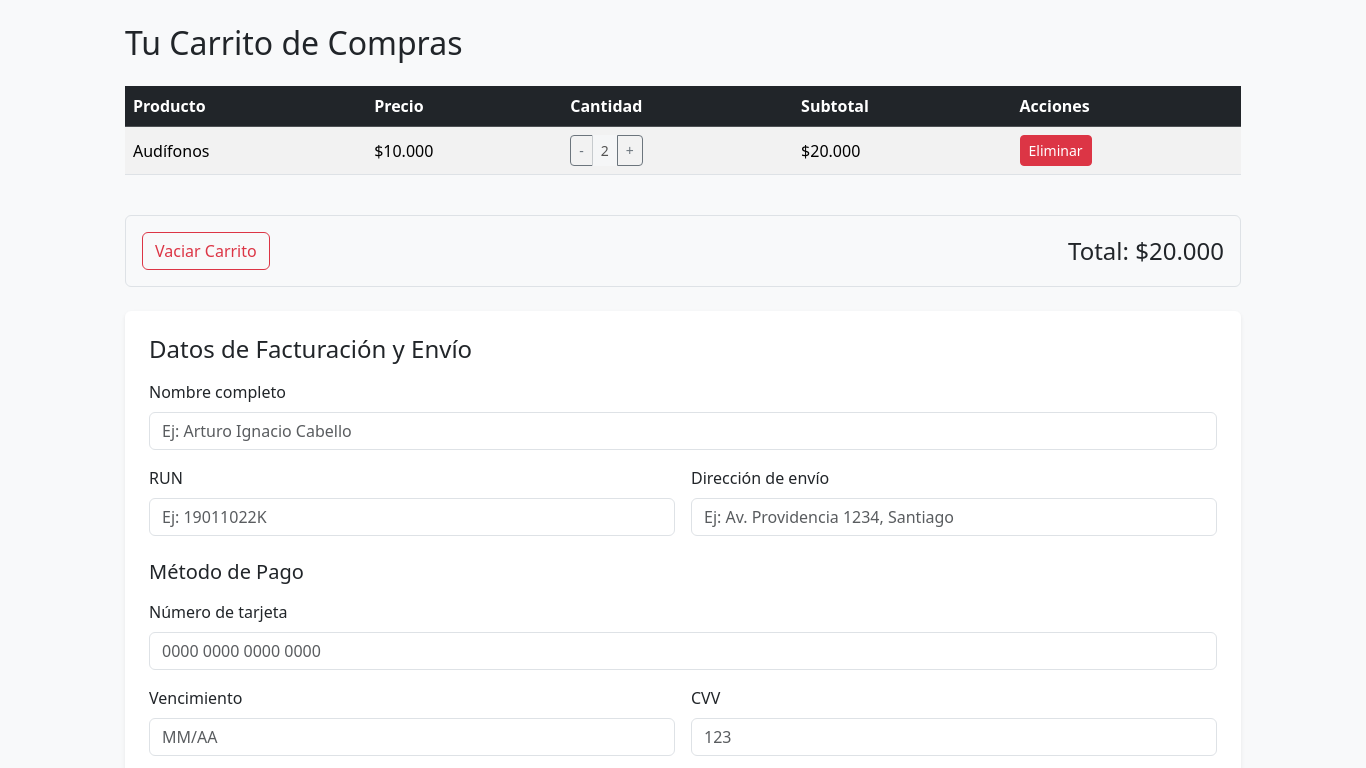
Scenario: Checkout del carrito › aplica formato automático a la tarjeta y al vencimiento
This screenshot has width=1366, height=768.
Type "1234567812345678" into the field with test id "pago-tarjeta".
click(683, 651); type("1234567812345678")  # box [149,632,1217,670]
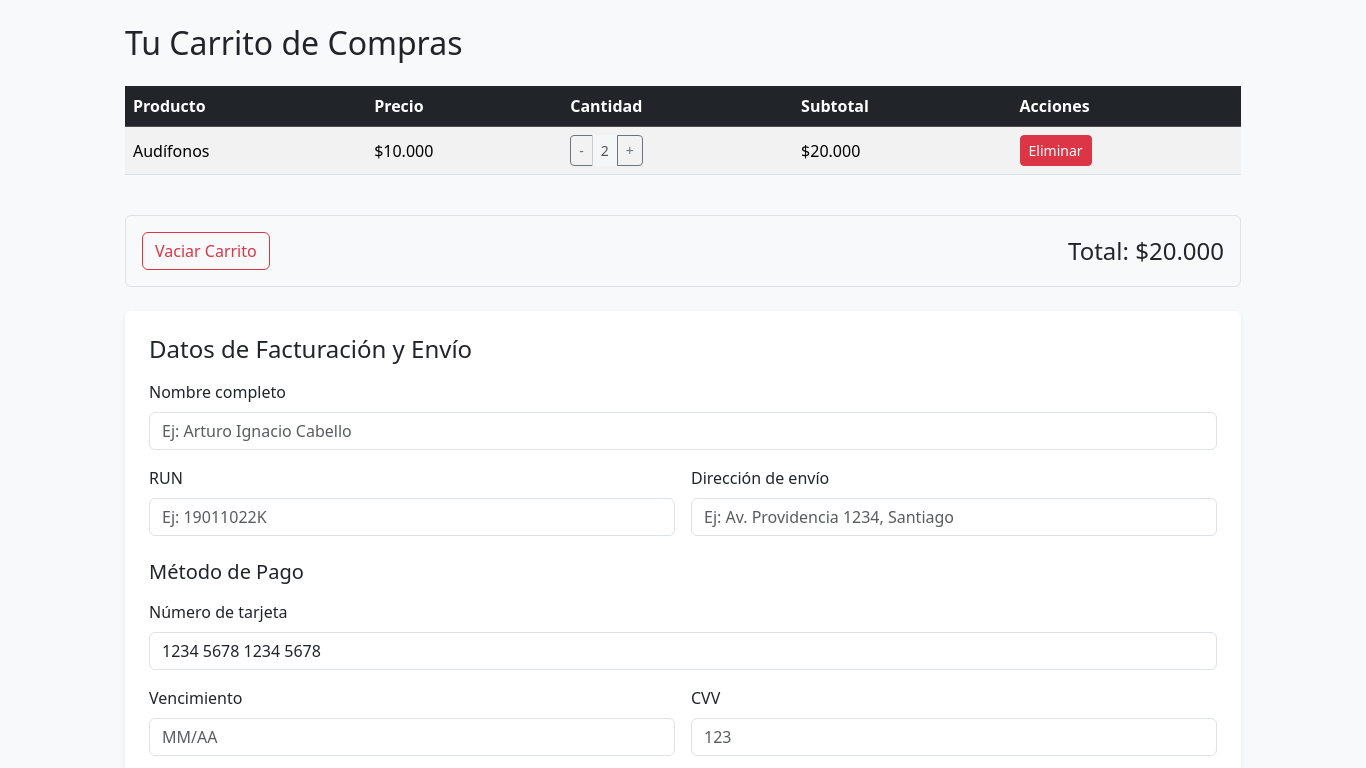
Type "1230" into the field with test id "pago-vencimiento".
click(412, 737); type("1230")  # box [149,718,675,756]
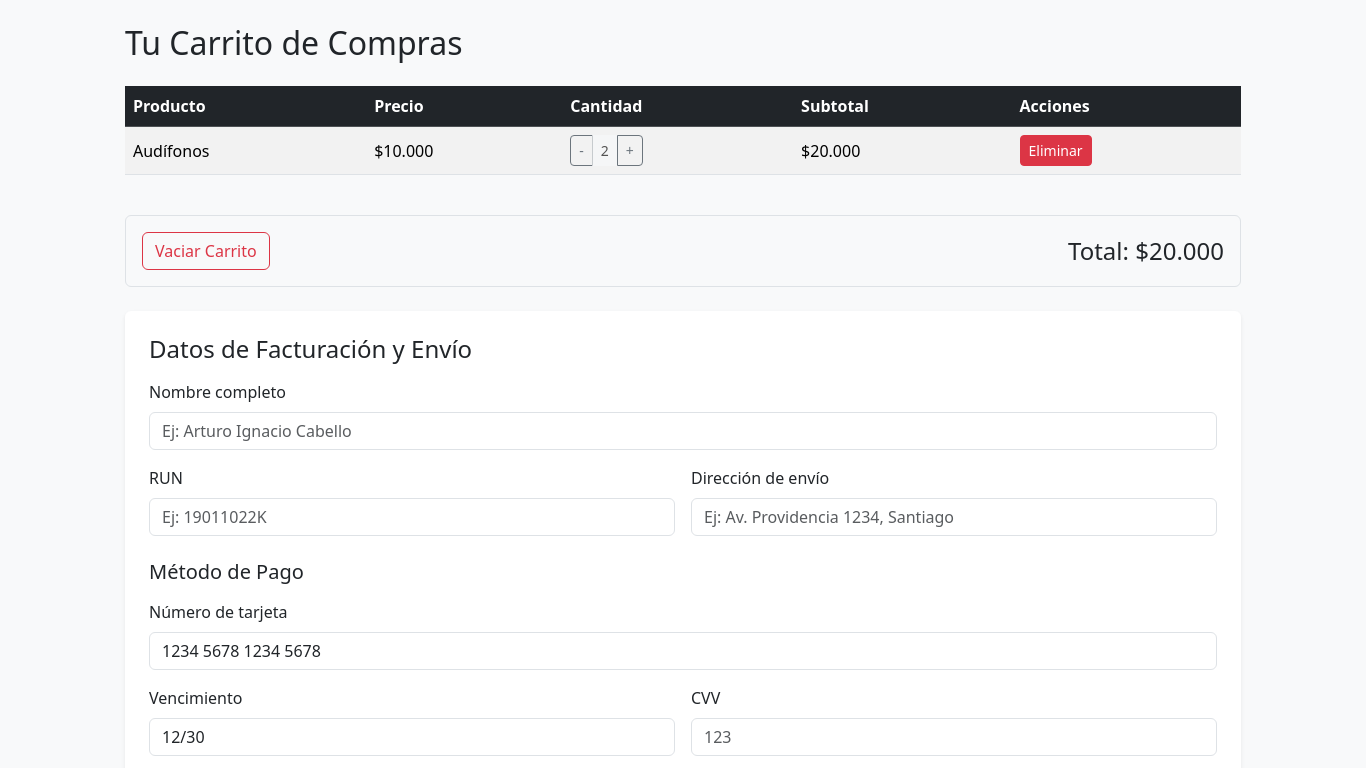
Check: the field with test id "pago-tarjeta" holds "1234 5678 1234 5678", box [149,632,1217,670]
Check: the field with test id "pago-vencimiento" holds "12/30", box [149,718,675,756]
